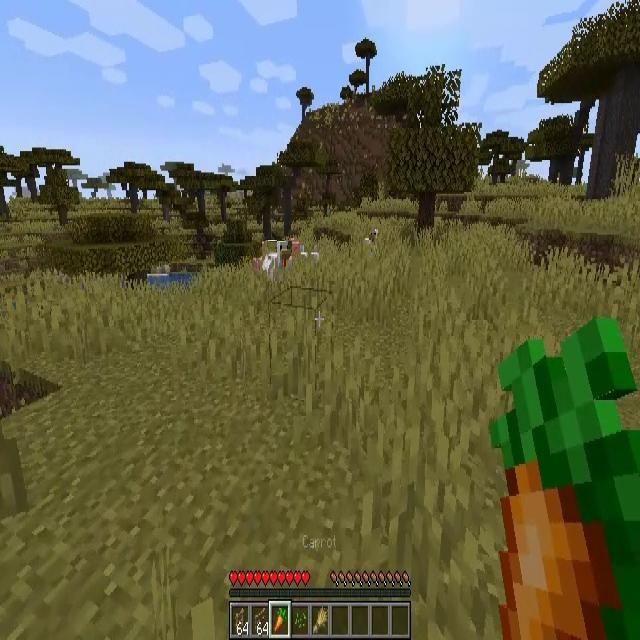duck: (262, 241, 292, 281), (363, 228, 379, 252), (300, 246, 308, 267), (311, 245, 319, 262)
